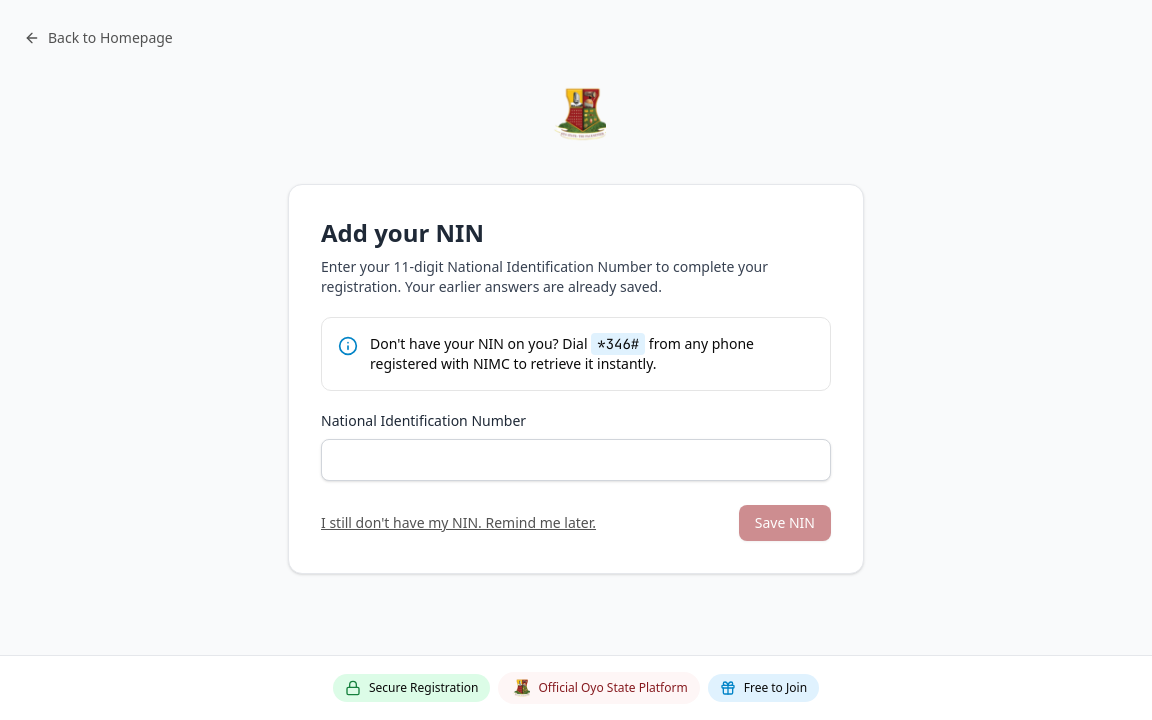
Test case: CompleteNinPage (Story 9-12 Task 7) › renders FR21 duplicate-NIN block on NIN_DUPLICATE error
The image size is (1152, 720).
Type "12345678901" into the field with test id "complete-nin-input" at (576, 460), box [321,439,831,481]
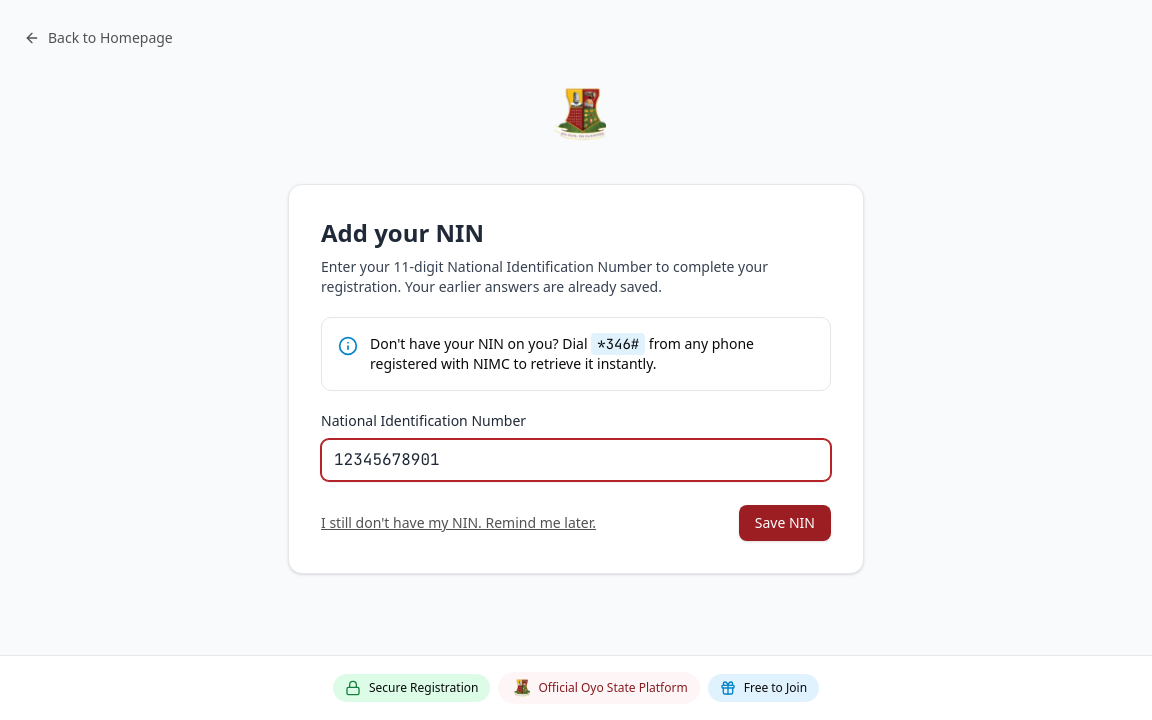
Click the button with test id "complete-nin-save" at (785, 523), box [739,505,831,541]
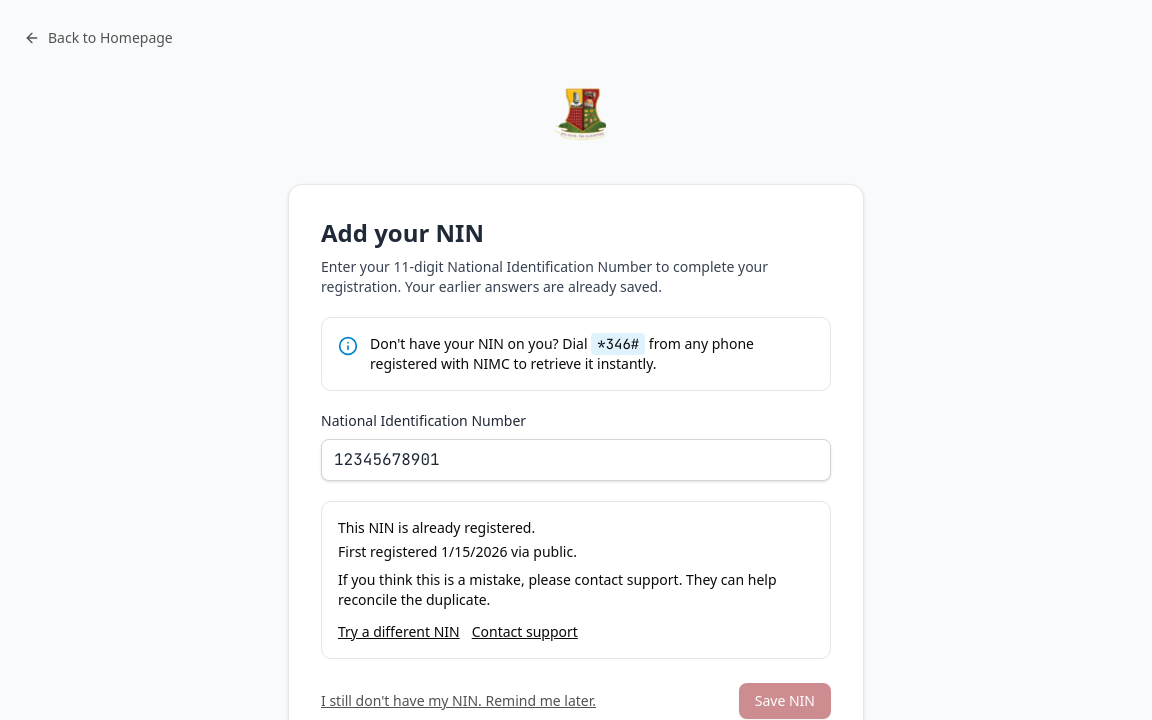
Result: the message with test id "complete-nin-duplicate" is shown at [321,501,831,659]
Result: the button with test id "complete-nin-duplicate-back" is shown at [338,622,460,642]
Result: the button with test id "complete-nin-save" is disabled at [739,683,831,719]
